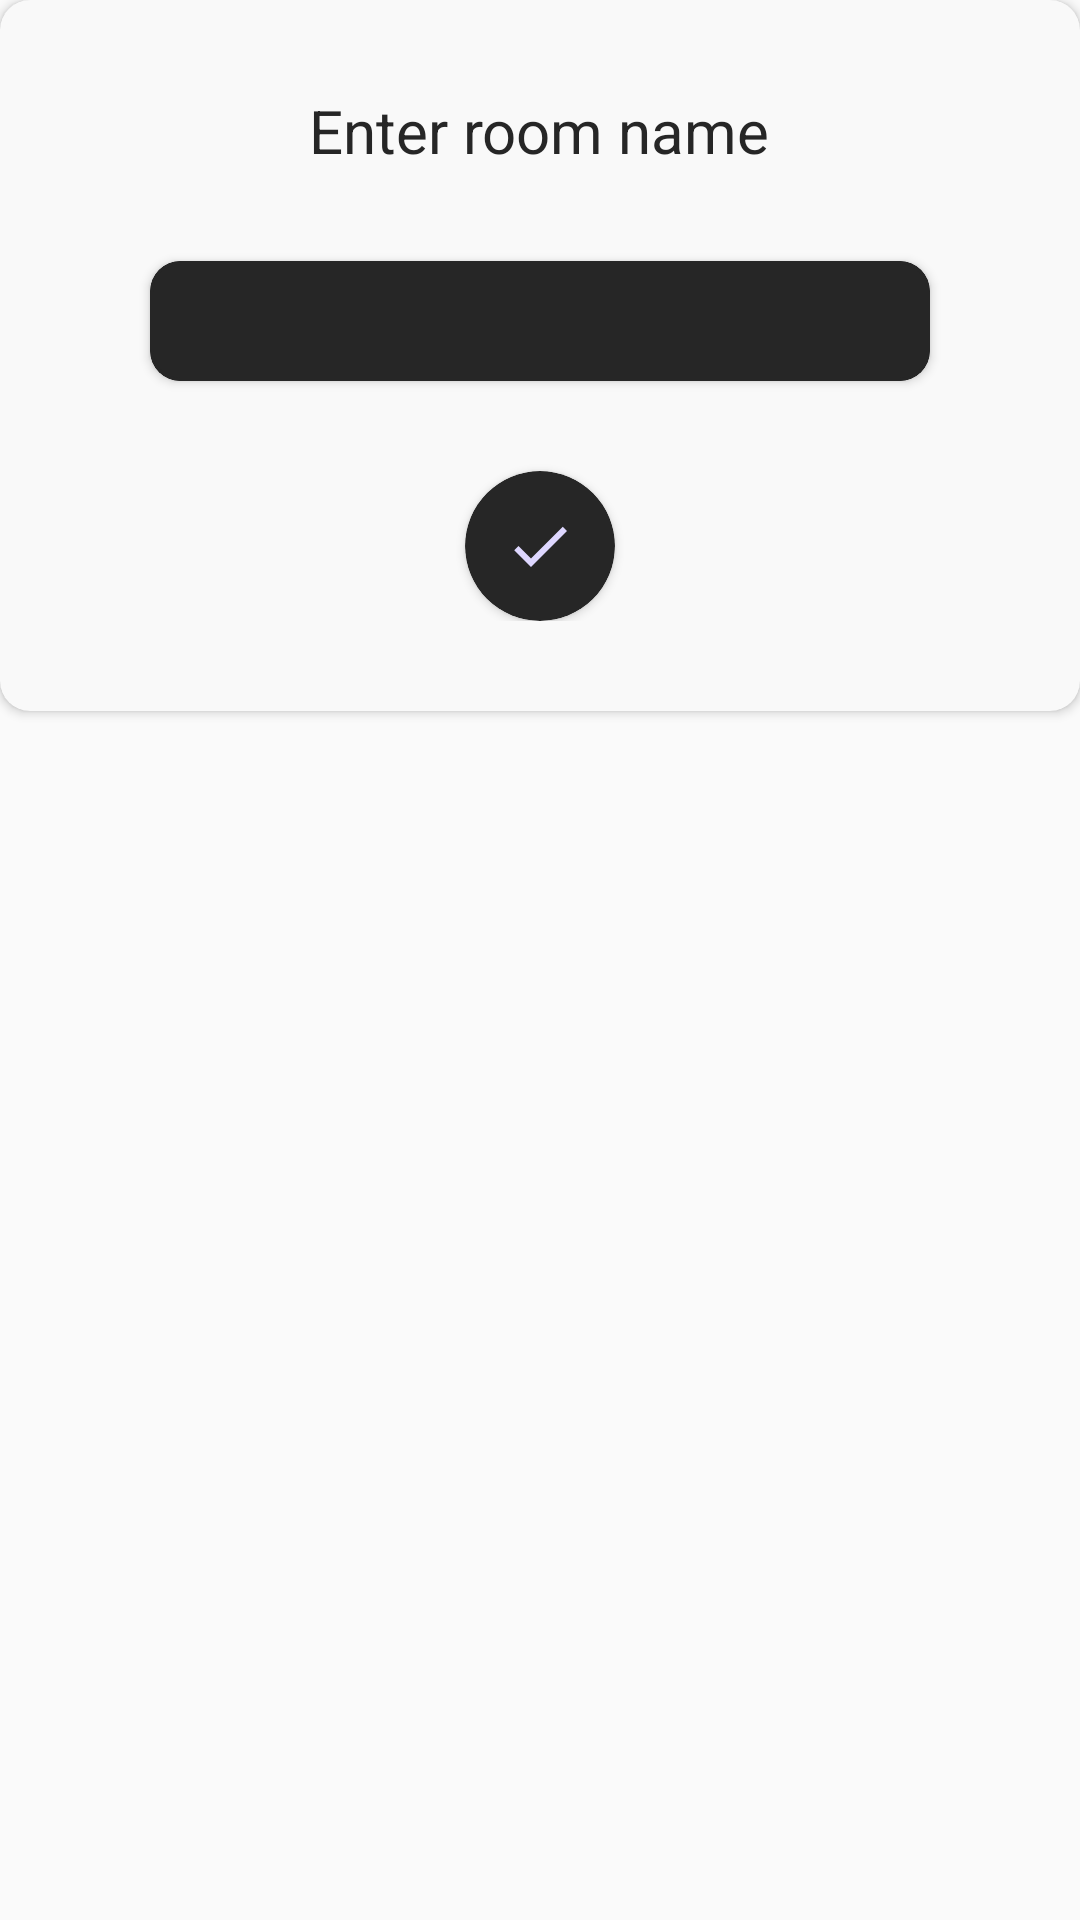

Icons on this 1080px×1920px Android screen, each with the point to tap as [x,y]:
check: [540,547]
